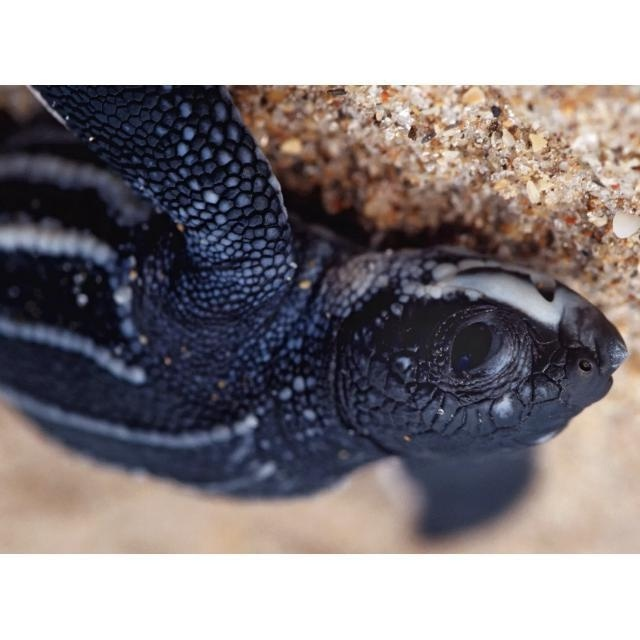turtle: (11, 88, 627, 540)
